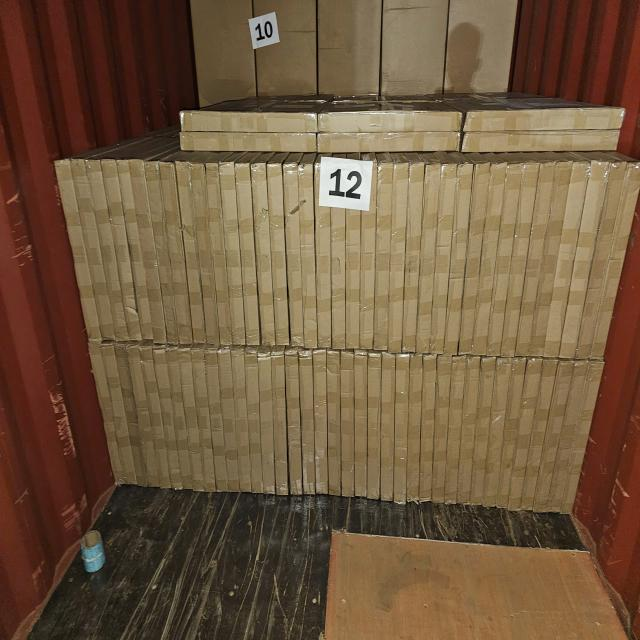Carton: (516, 162, 637, 362), (557, 357, 601, 513), (191, 0, 255, 105), (450, 0, 520, 94), (384, 0, 450, 97), (254, 0, 318, 97), (256, 158, 288, 352), (320, 0, 383, 97), (286, 154, 316, 353), (379, 154, 402, 352), (524, 356, 553, 509), (235, 156, 256, 352), (493, 358, 518, 513), (319, 352, 342, 495), (433, 154, 449, 357), (506, 356, 526, 509), (397, 356, 414, 506), (207, 345, 223, 499), (480, 358, 496, 511), (220, 350, 237, 494), (466, 358, 482, 509), (353, 349, 369, 499), (447, 358, 463, 508), (433, 357, 449, 507), (286, 347, 302, 497), (419, 356, 435, 506), (379, 355, 394, 506), (260, 347, 275, 496), (273, 348, 288, 496), (367, 354, 381, 504), (300, 352, 314, 495), (342, 348, 354, 498), (193, 347, 210, 409), (218, 349, 234, 413), (202, 431, 217, 491)
